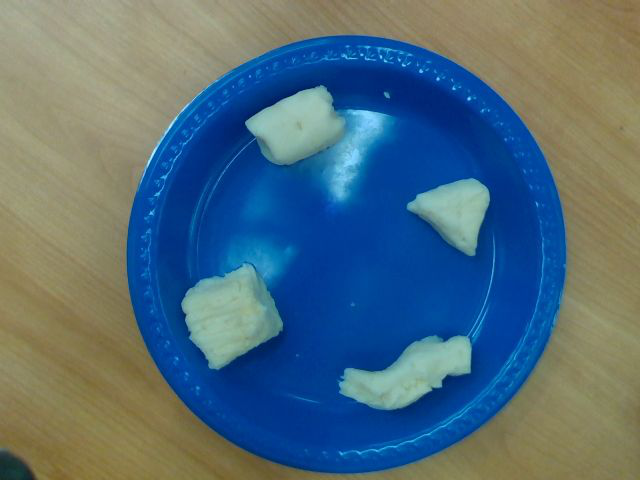mashed_potato: (182, 264, 283, 369), (341, 334, 471, 408), (246, 86, 345, 164), (408, 179, 489, 256)
